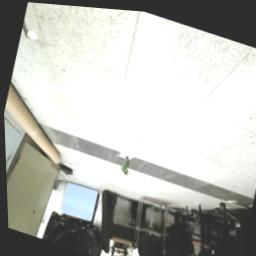herb: (118, 153, 133, 176)
